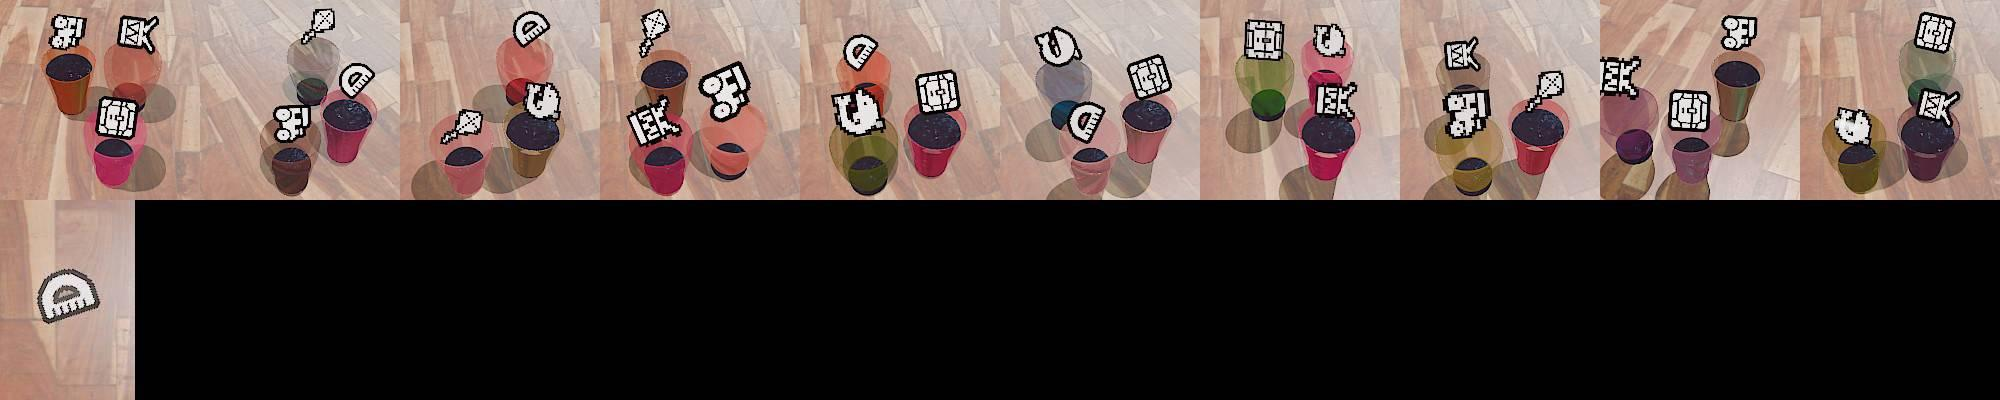icon: (34, 268, 101, 325), (699, 61, 751, 122), (625, 96, 685, 146), (830, 85, 886, 139), (1443, 87, 1491, 139), (1126, 55, 1175, 102), (913, 69, 960, 116), (94, 94, 140, 139), (1034, 24, 1079, 68), (1601, 55, 1644, 98), (1667, 89, 1710, 132), (1314, 79, 1358, 121), (1915, 11, 1957, 56), (519, 80, 562, 121), (117, 15, 161, 56), (1242, 19, 1283, 62), (1066, 99, 1106, 144), (636, 9, 671, 57), (272, 102, 312, 143), (440, 107, 485, 144), (1915, 88, 1958, 125), (1833, 106, 1871, 145), (47, 14, 87, 52), (842, 33, 880, 73), (1529, 69, 1566, 110), (1719, 15, 1758, 54), (338, 61, 376, 99), (511, 10, 550, 48), (300, 8, 335, 46), (1443, 36, 1480, 71), (1311, 22, 1347, 59)
